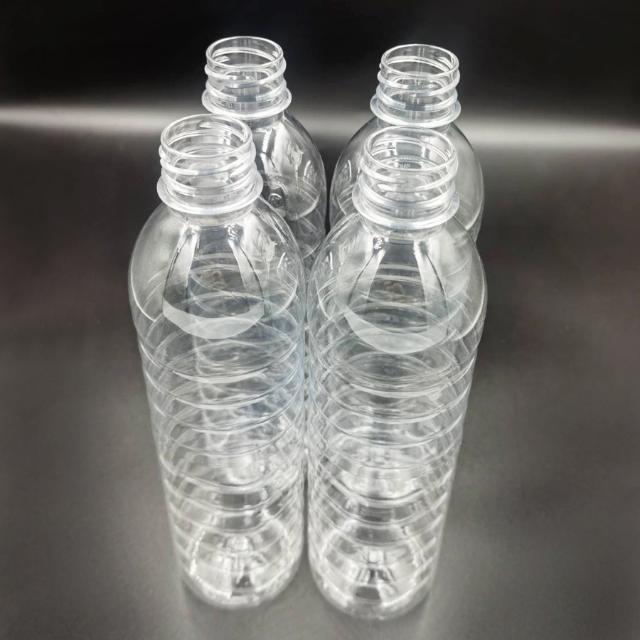PET Bottle: (302, 120, 506, 638), (111, 109, 309, 633), (350, 17, 510, 244), (188, 17, 333, 239)
